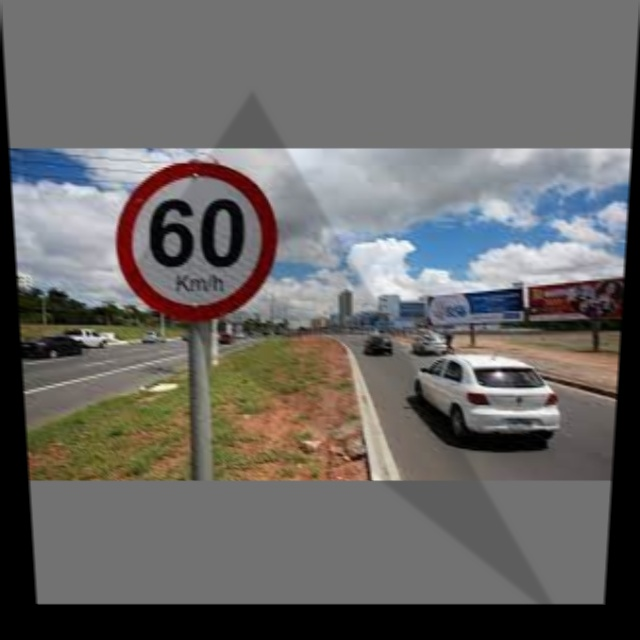Speed_Limit_60: (115, 156, 272, 320)
